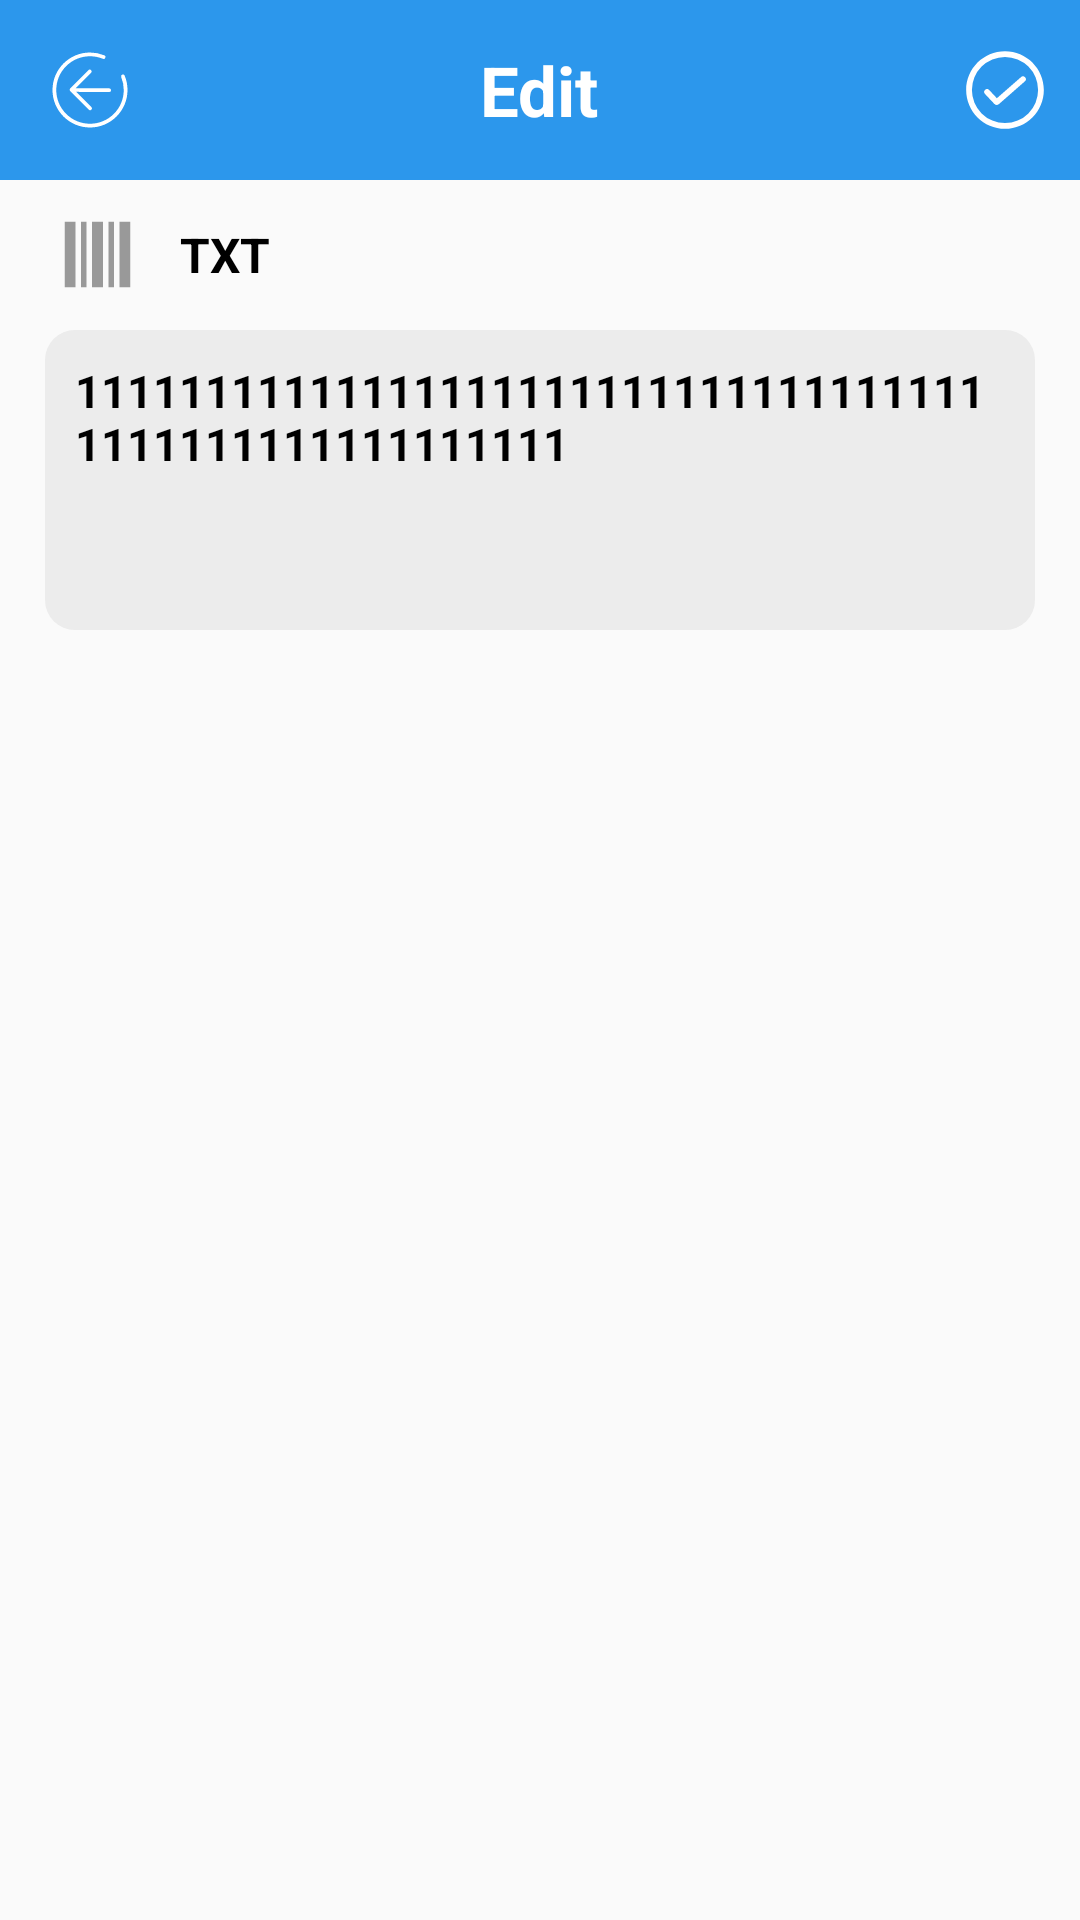

Icon bounding boxes for this 1080×1920 phone screenshot, format (x1, y1, x2, y2):
back: (52, 52, 128, 128)
code: (64, 222, 131, 288)
